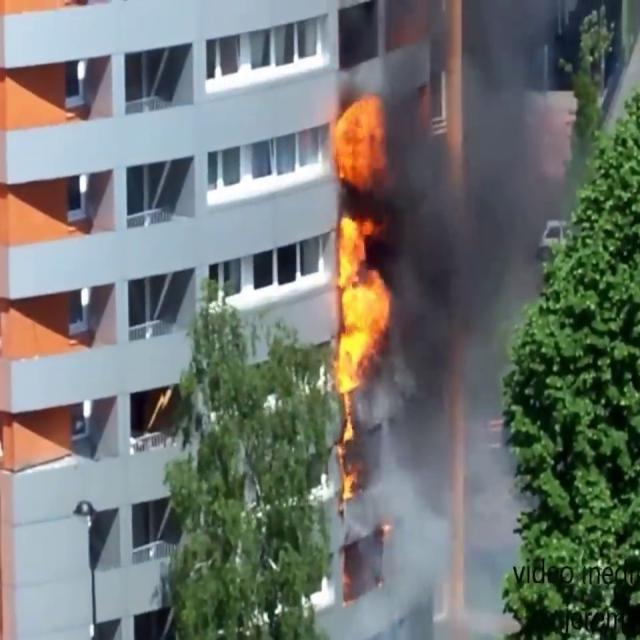Fire: (324, 80, 394, 442)
Smoke: (345, 0, 584, 637)
